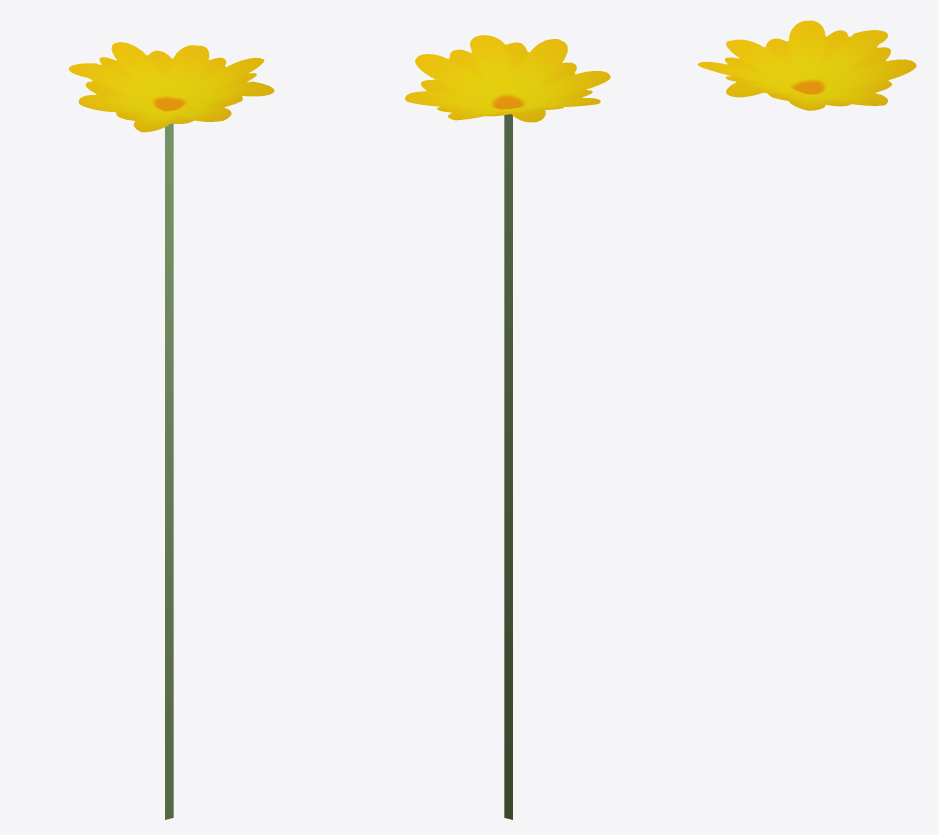
File: Flower_03.fbx
3 renders of one model, left to right at view 1: azimuth 30°, elevation 25°; view 2: azimuth 150°, elevation 25°; view 3: azimuth 270°, elevation 25°, orthographic.
Parts seen in each view (by area): view 1: Flower_03; view 2: Flower_03; view 3: Flower_03.
Part boxes in pixels (bbox=[...]): Flower_03: bbox=[68, 42, 274, 819]; Flower_03: bbox=[405, 35, 610, 819]; Flower_03: bbox=[697, 20, 916, 110].
Size of the model in its own units: 10.49 by 37.6 by 10.49.
